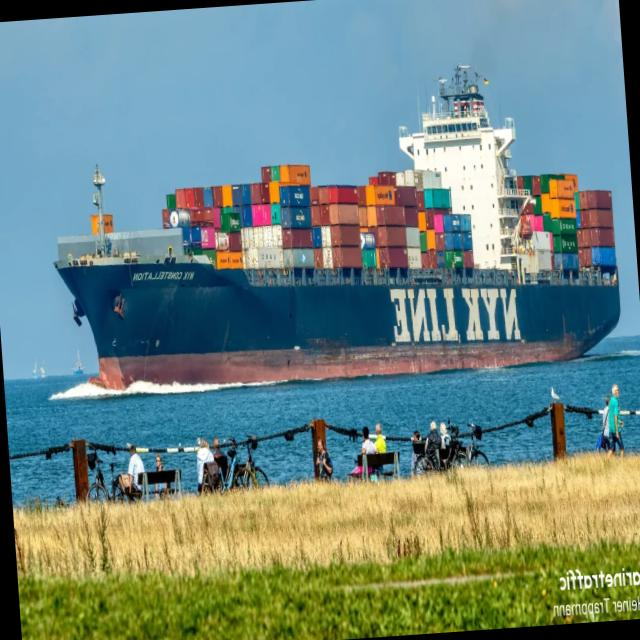Cargo: (54, 65, 619, 388)
